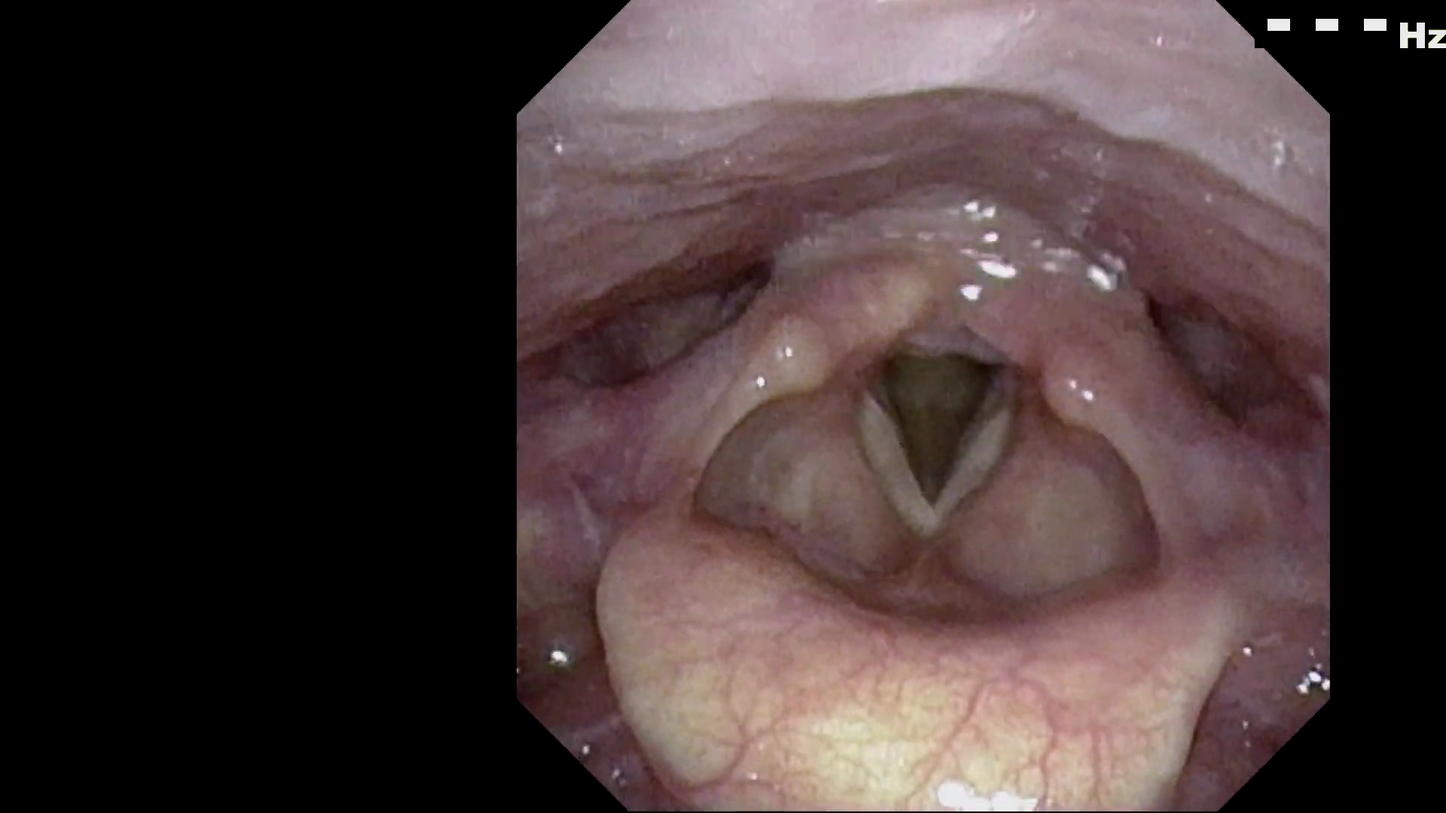epiglottis: (594, 524, 1223, 765)
trachea: (859, 351, 1038, 576)
